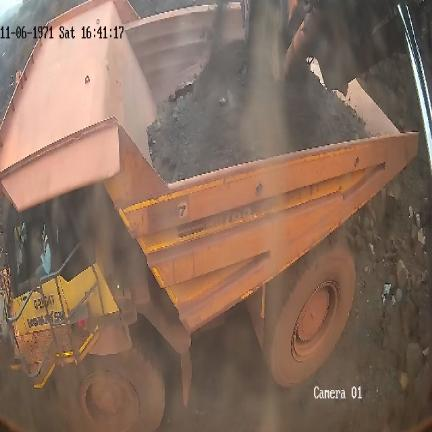pile: (147, 34, 369, 185), (343, 149, 430, 432)
